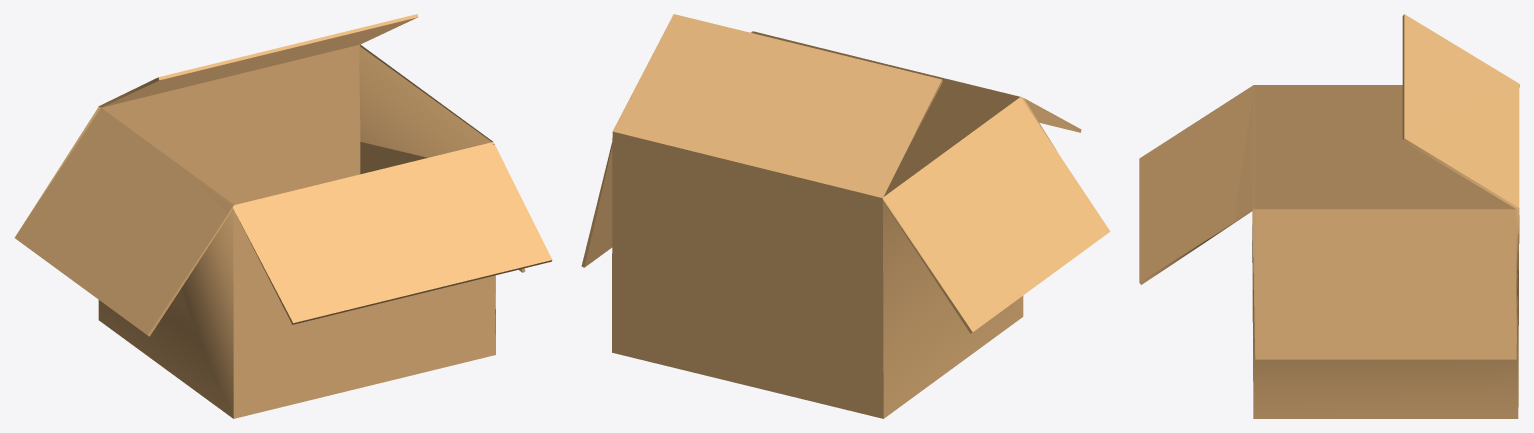
File: cardboard-box_01.fbx
3 renders of one model, left to right at view 1: azimuth 30°, elevation 25°; view 2: azimuth 150°, elevation 25°; view 3: azimuth 270°, elevation 25°, orthographic. The views are drawn at different scales.
Parts seen in each view (by area): view 1: cardboard-box_01; view 2: cardboard-box_01; view 3: cardboard-box_01.
Boxes of the visible parts, x1,y1,x2,y2 form: cardboard-box_01: (14, 14, 552, 418); cardboard-box_01: (581, 14, 1110, 418); cardboard-box_01: (1139, 14, 1519, 418).
Bounding box in the file's own units: 86.21 × 62.12 × 76.48.
1 material, 1 textured.
